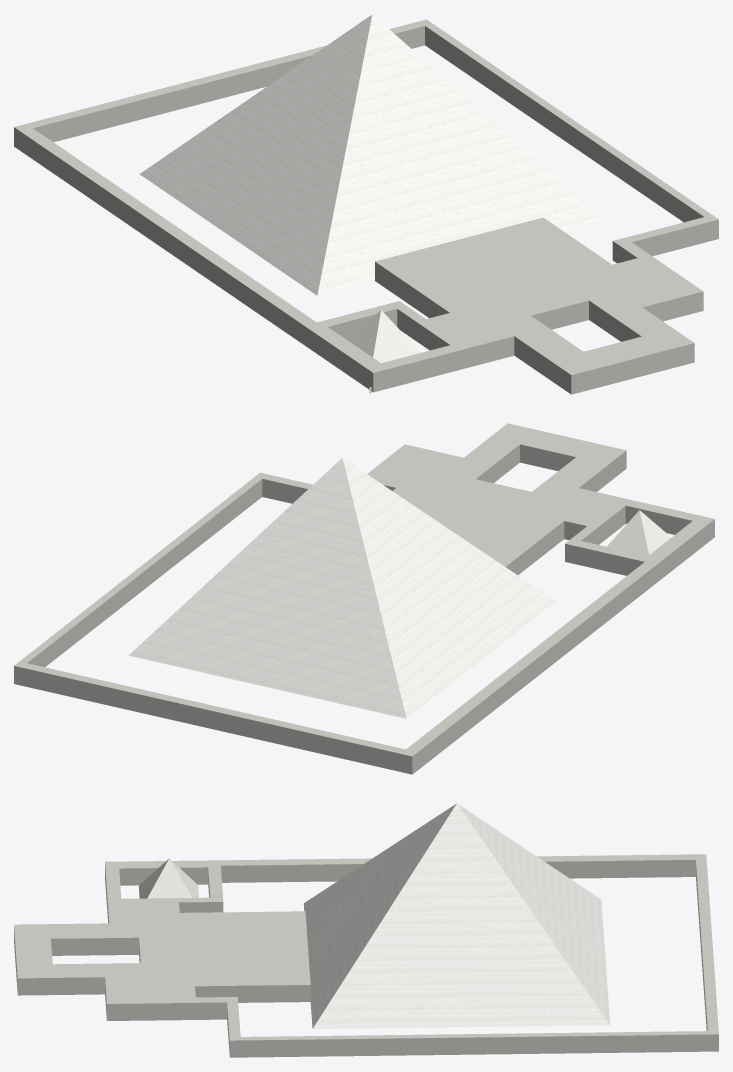
The model's file is Sahure_Pyramid.glb.
The picture shows the model from 3 angles, top to bottom: view 1: azimuth 30°, elevation 25°; view 2: azimuth 150°, elevation 25°; view 3: azimuth 270°, elevation 25°; orthographic projection. The views are drawn at different scales.
Parts seen in each view (by area): view 1: Mesh1 Model, Mesh2 Model; view 2: Mesh1 Model, Mesh2 Model; view 3: Mesh1 Model, Mesh2 Model.
Boxes of the visible parts, x1,y1,x2,y2 form: Mesh1 Model: (14,14,718,394); Mesh2 Model: (347,310,420,363); Mesh1 Model: (14,423,714,774); Mesh2 Model: (607,510,671,555); Mesh1 Model: (14,803,718,1057); Mesh2 Model: (138,858,198,898).
Bounding box in the file's own units: 117 × 47 × 186.
Materials: 6 (2 with a texture image).
